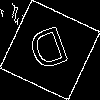D: (25, 25, 75, 80)
